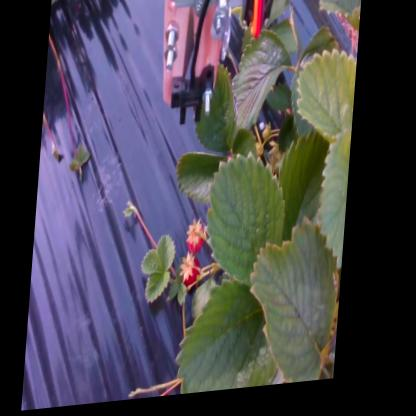ripe: (184, 257, 206, 295), (191, 225, 211, 257)
unripe: (254, 145, 267, 167), (263, 128, 275, 146)
